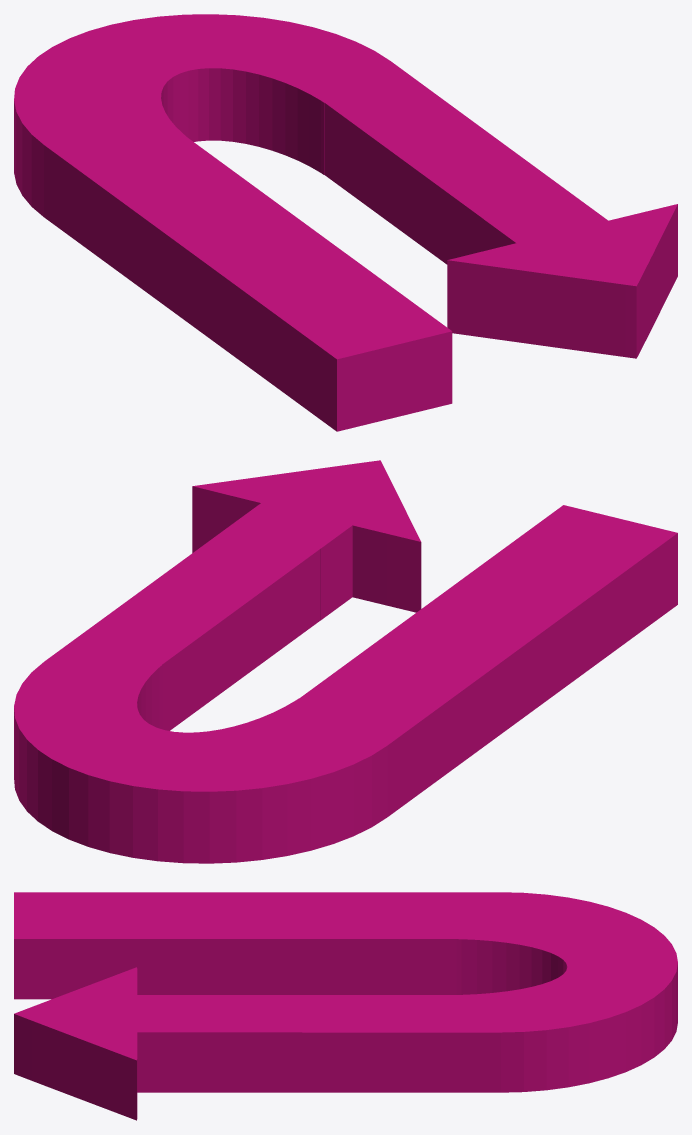
File: sipkaTurnAround.obj
3 views of the same model, one above another, from view 1: azimuth 30°, elevation 25°; view 2: azimuth 150°, elevation 25°; view 3: azimuth 270°, elevation 25° (orthographic). The views are drawn at different scales.
Parts seen in each view (by area): view 1: obj_0; view 2: obj_0; view 3: obj_0.
Boxes of the visible parts, x1,y1,x2,y2 form: obj_0: (14,14,677,431); obj_0: (14,460,677,863); obj_0: (14,892,677,1120).
Bounding box in the file's own units: 18 × 3 × 30.
